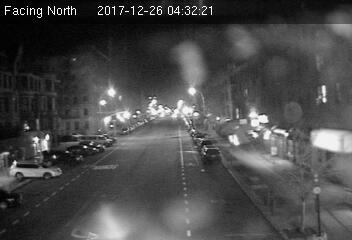car: (201, 146, 224, 164)
